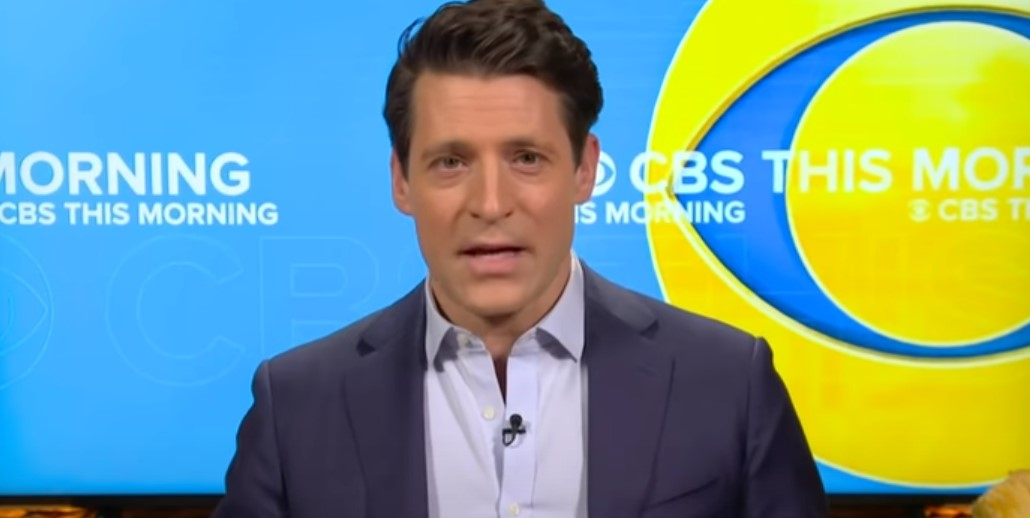face_no_mask: (385, 8, 600, 315)
